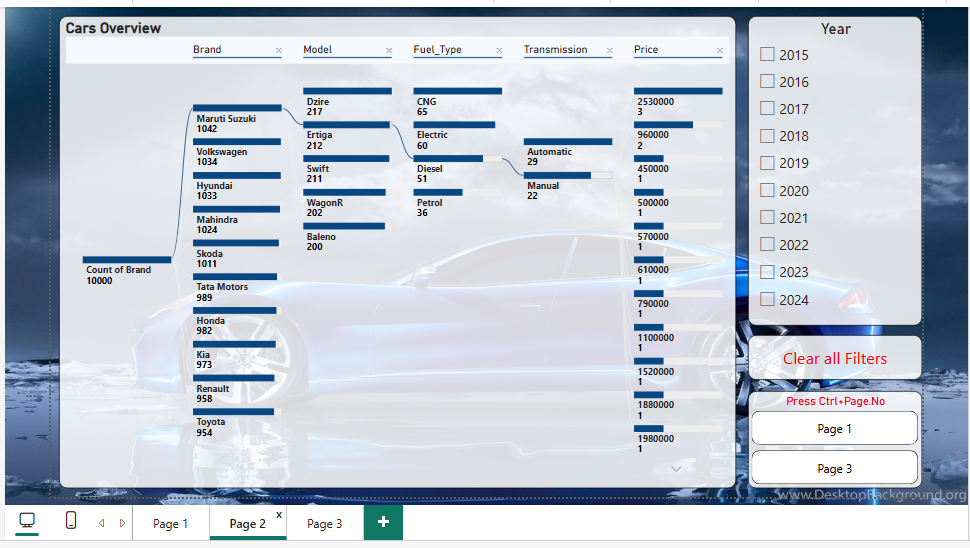

This screenshot's page, from the dashboard's own definition file:
{"tool":"powerbi","page":{"name":"Page 2","canvas":[1280,720],"ordinal":1},"visuals":[{"type":"pageNavigator","title":"Press Ctrl+Page.No","box":[1024.2,564.2,255.7,142.5],"z":0},{"type":"decompositionTreeVisual","title":"Cars Overview","fields":{"ExplainBy":["car_dataset_india_rawdata.Brand","car_dataset_india_rawdata.Model","car_dataset_india_rawdata.Fuel_Type","car_dataset_india_rawdata.Transmission","car_dataset_india_rawdata.Price"],"Analyze":["CountNonNull(car_dataset_india_rawdata.Brand)"]},"box":[11.8,13.2,994.8,693.6],"z":1000},{"type":"slicer","title":"Year","fields":{"Values":["car_dataset_india_rawdata.Year"]},"box":[1023.6,12.5,256.4,455.4],"z":2000},{"type":"actionButton","box":[1023.6,482.2,256.4,66.3],"z":12000}]}

Visuals, with their boxes in screenshot pixels (x1, y1, x2, y2):
"Press Ctrl+Page.No" pageNavigator: (733, 399, 918, 502)
"Cars Overview" decompositionTreeVisual: (3, 2, 721, 502)
"Year" slicer: (733, 1, 918, 330)
actionButton: (733, 340, 918, 388)
